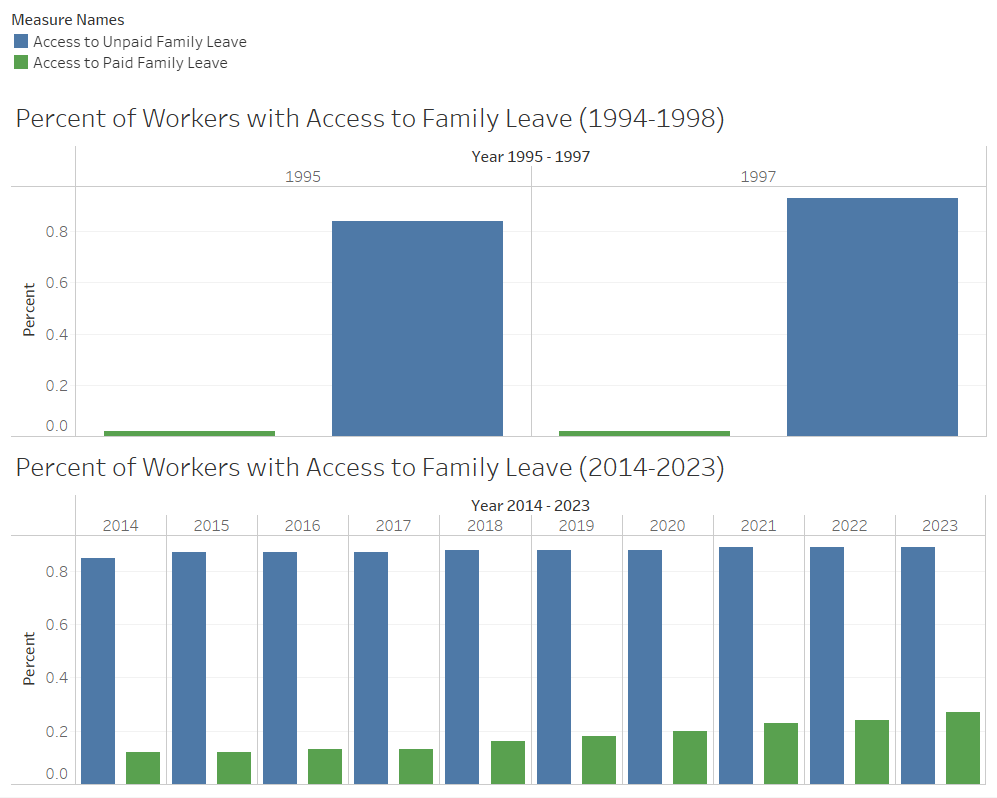

The dashboard page shown, as its layout file describes it:
{"tool":"tableau","page":{"name":"FMLA","canvas":[1000,800],"ordinal":0},"visuals":[{"type":"legend","title":"FMLA2014to2023","param":"[federated.1i2dqqr0og2kwa16x2tan04jjrjo].[:Measure Names]","box":[8,8,984,87]},{"type":"worksheet","title":"FMLA94and96","mark":"Automatic","cols":["Year (94and96 Percent with Access to Family Leave.csv)"],"box":[8,95,984,348.5]},{"type":"worksheet","title":"FMLA2014to2023","mark":"Automatic","cols":["Year"],"box":[8,443.5,984,348.5]}]}

Visuals, with their boxes in screenshot pixels (x1, y1, x2, y2), scaled from the page's 1000x800 canvas onto the 997x798 screenshot:
"FMLA2014to2023" legend: bbox=(8, 8, 989, 95)
"FMLA94and96" worksheet: bbox=(8, 95, 989, 442)
"FMLA2014to2023" worksheet: bbox=(8, 442, 989, 790)
